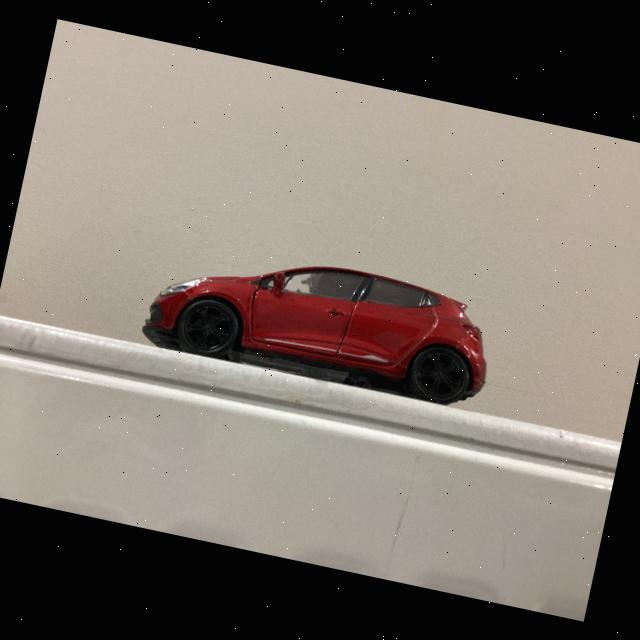Dogru_Jant: (411, 346, 468, 402), (180, 300, 234, 354)
